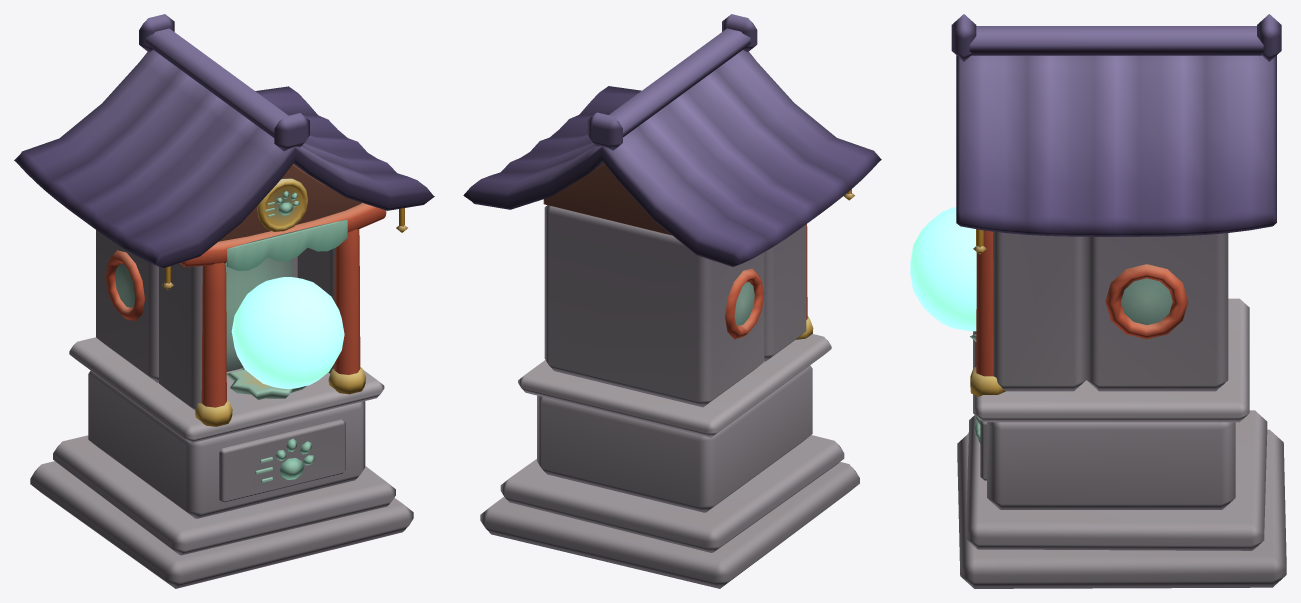
The model's file is shrine-zoomies.glb.
3 views of the same model, side by side, from view 1: azimuth 30°, elevation 25°; view 2: azimuth 150°, elevation 25°; view 3: azimuth 270°, elevation 25° (orthographic). The views are drawn at different scales.
Parts seen in each view (by area): view 1: base, orb; view 2: base; view 3: base, orb.
Part boxes in pixels (x1,y1,x2,y2): base: [14, 14, 434, 588]; orb: [231, 277, 344, 388]; base: [463, 14, 881, 588]; base: [951, 14, 1286, 588]; orb: [910, 207, 976, 331].
Bounding box in the file's own units: 1.02 × 1.57 × 1.06.
